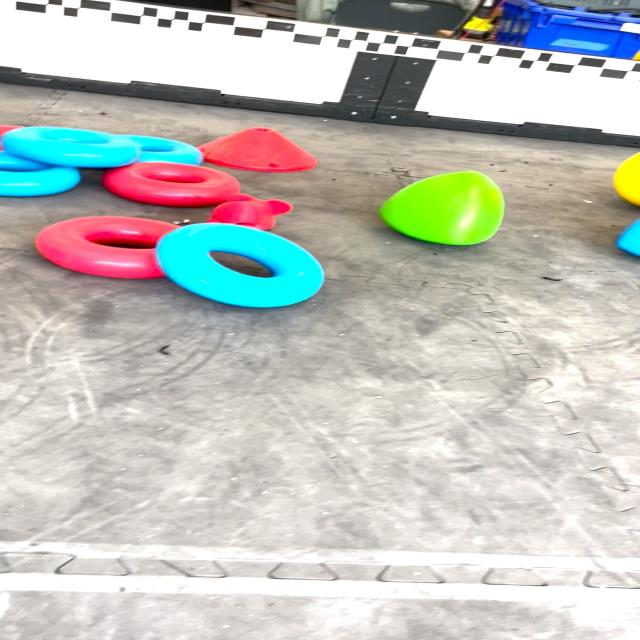Blue-Ring: (156, 222, 324, 308), (2, 126, 142, 168), (0, 150, 80, 196), (118, 135, 202, 165)
Red-Ring: (36, 216, 180, 278), (102, 162, 253, 208)
